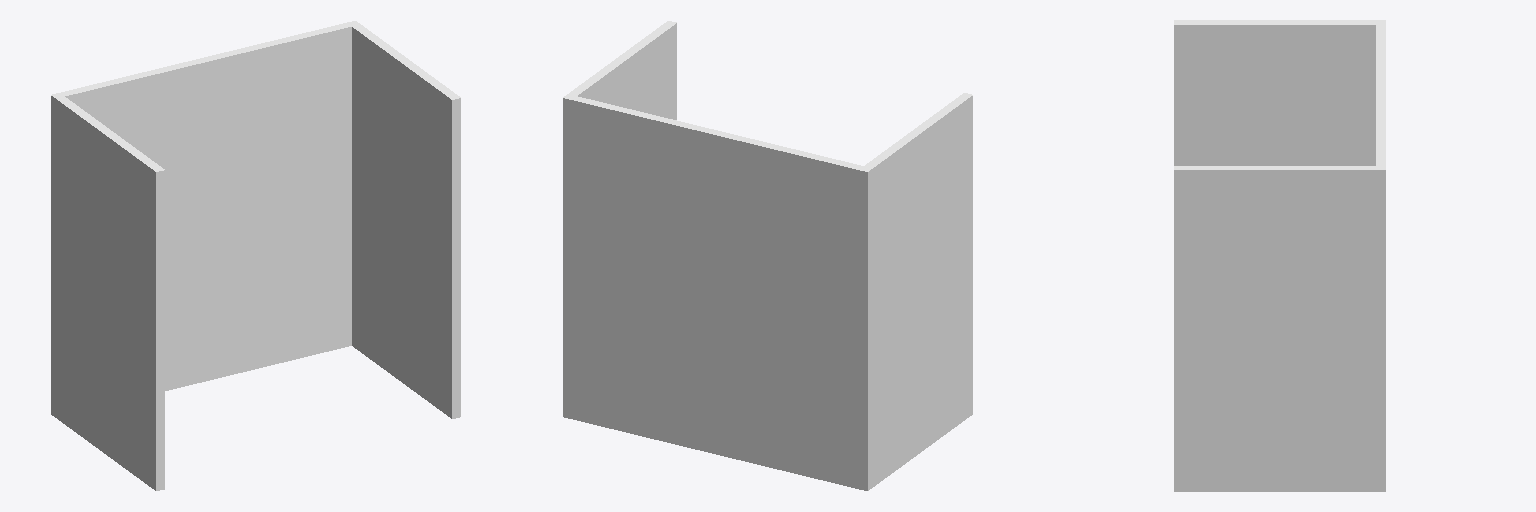
robot.urdf — apple.urdf:
<?xml version="0.0" ?>
<robot name="apple.urdf">
  <link name="baseLink">
    <contact>
      <lateral_friction value="0.3"/>
      <stiffness value="10000.0"/>
    </contact>
    <inertial>
      <origin rpy="0 0 0" xyz="0 0 0"/>
       <mass value="0.1"/>
       <inertia ixx="1" ixy="0" ixz="0" iyy="1" iyz="0" izz="1"/>
    </inertial>
    <visual>
      <origin rpy="0 0 0" xyz="0 0 0"/>
      <geometry>
            <mesh filename="drawer_up.obj" scale="0.001 0.001 0.001"/>
      </geometry>
       <material name="white">
        <color rgba="1 1 1 1"/>
      </material>
    </visual>
    <collision>
      <origin rpy="0 0 0" xyz="0 0 0"/>
      <geometry>
	 	<mesh filename="drawer_up_vhacd.obj" scale="0.001 0.001 0.001"/>
      </geometry>
    </collision>
  </link>  
</robot>

--- What the picture shows (computed from the rendered views, not written in the file) ---
The picture shows the robot from 3 angles, left to right: view 1: azimuth 30°, elevation 25°; view 2: azimuth 150°, elevation 25°; view 3: azimuth 270°, elevation 25°; orthographic projection.
Robot: apple.urdf — 1 links, 0 joints (none); root link baseLink; default pose: all joints at 0.
Visible links, largest first — view 1: baseLink; view 2: baseLink; view 3: baseLink.
Link boxes in pixels (bbox=[...]): baseLink: bbox=[51, 21, 460, 490]; baseLink: bbox=[563, 21, 972, 490]; baseLink: bbox=[1174, 20, 1385, 491].
Bounding box of the posed robot: 0.2 × 0.12 × 0.2 m (x, y, z).
1 mesh visuals loaded from 1 distinct referenced files (1 OBJ).